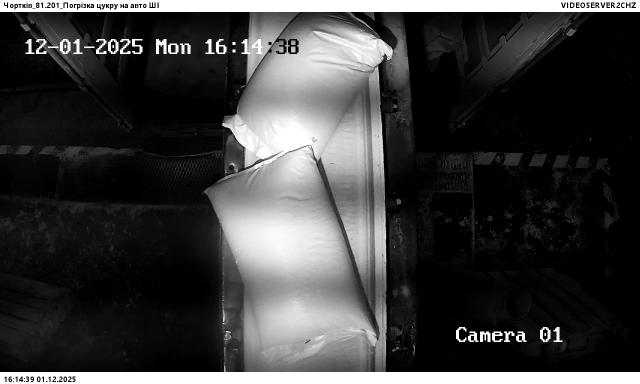bag: (203, 143, 378, 364), (222, 12, 394, 176)
